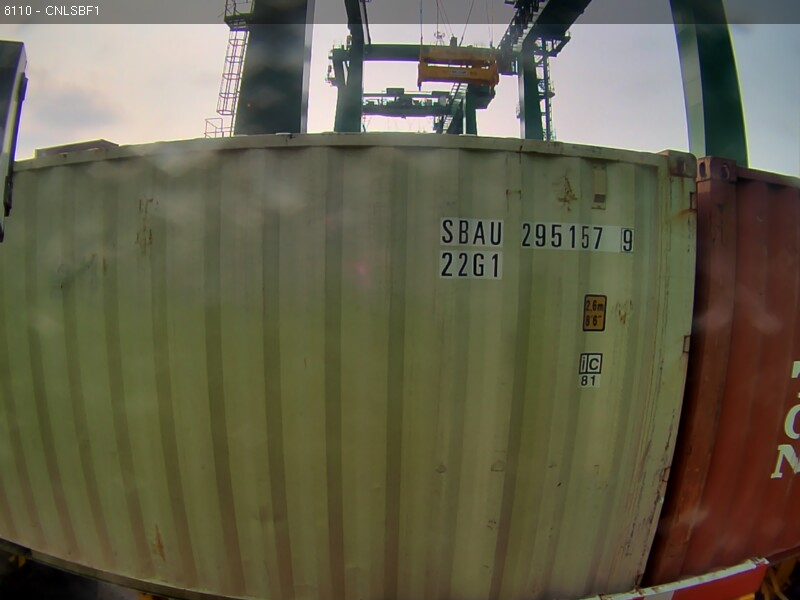container_no_door: (284, 138, 702, 539)
